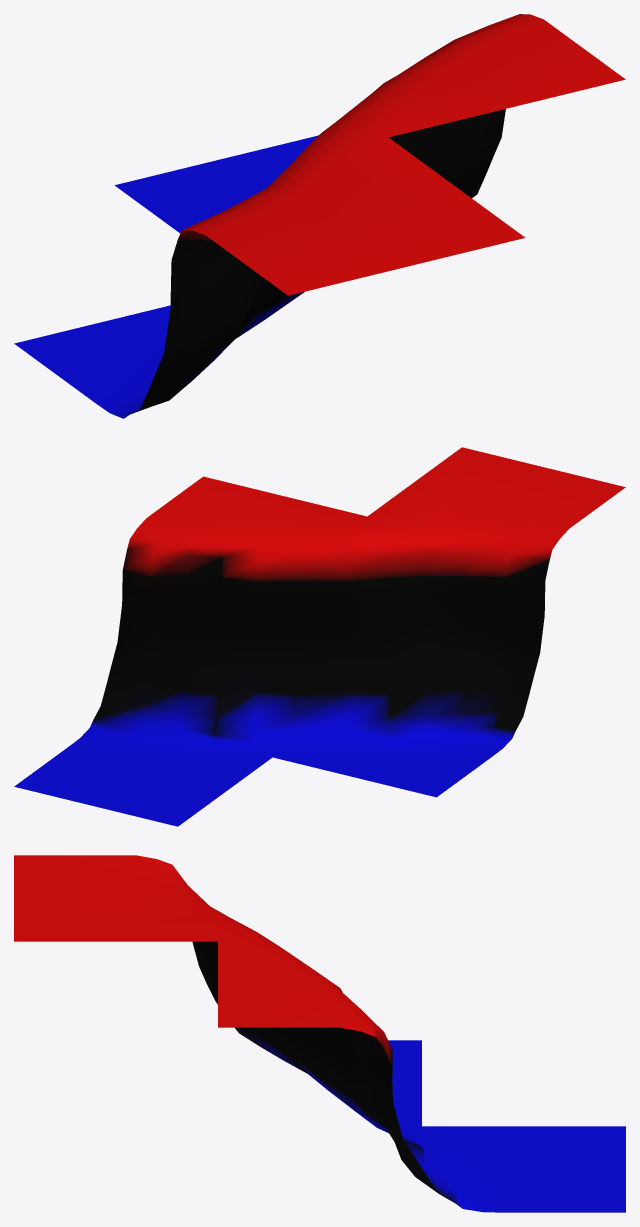
File: RiveCliff03A Background.fbx
3 renders of one model, top to bottom at view 1: azimuth 30°, elevation 25°; view 2: azimuth 150°, elevation 25°; view 3: azimuth 270°, elevation 25°, orthographic. The views are drawn at different scales.
Parts seen in each view (by area): view 1: RiveCliff03A Background; view 2: RiveCliff03A Background; view 3: RiveCliff03A Background.
Boxes of the visible parts, left/top/right/bottom form: RiveCliff03A Background: left=14, top=14, right=625, bottom=418; RiveCliff03A Background: left=14, top=447, right=625, bottom=826; RiveCliff03A Background: left=14, top=855, right=625, bottom=1212.
Size of the model in its own units: 2 by 1 by 3.
